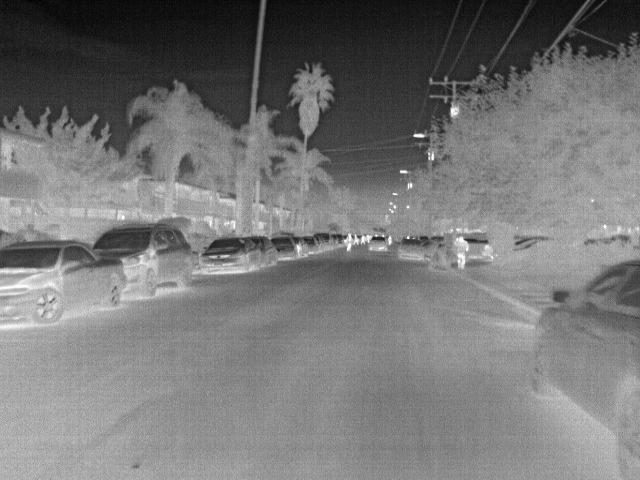car: (532, 259, 639, 450), (1, 240, 126, 327), (93, 225, 196, 303), (200, 237, 260, 273), (244, 236, 276, 268), (269, 236, 299, 262), (397, 238, 427, 261), (464, 240, 490, 259), (366, 234, 390, 252), (314, 231, 332, 250), (292, 236, 309, 256), (305, 236, 320, 253)
person: (454, 233, 469, 275), (342, 233, 352, 254), (351, 234, 360, 246)
